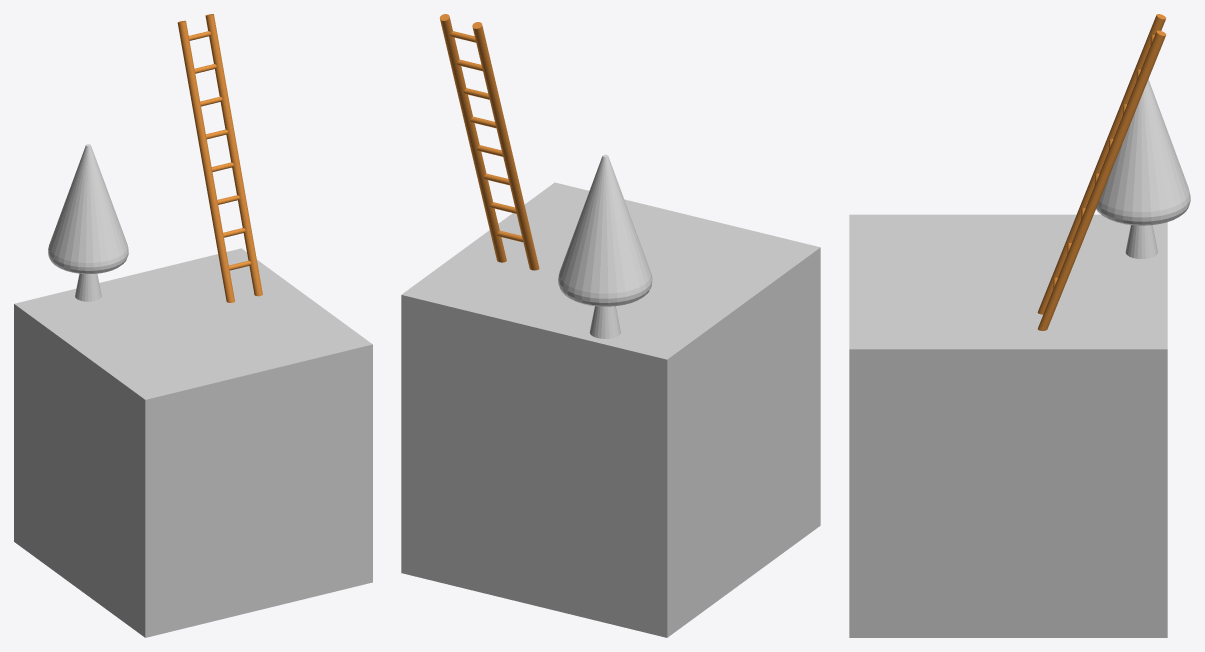
Rendered from tile-leader.glb.
The picture shows the model from 3 angles, left to right: view 1: azimuth 30°, elevation 25°; view 2: azimuth 150°, elevation 25°; view 3: azimuth 270°, elevation 25°; orthographic projection. The views are drawn at different scales.
Visible parts, largest first — view 1: Cylinder.005; view 2: Cylinder.005; view 3: Cylinder.005.
Part boxes in pixels (x1,y1,x2,y2): Cylinder.005: (14, 14, 372, 637); Cylinder.005: (401, 14, 820, 637); Cylinder.005: (849, 14, 1190, 637).
Size of the model in its own units: 1 by 2.03 by 1.07.
